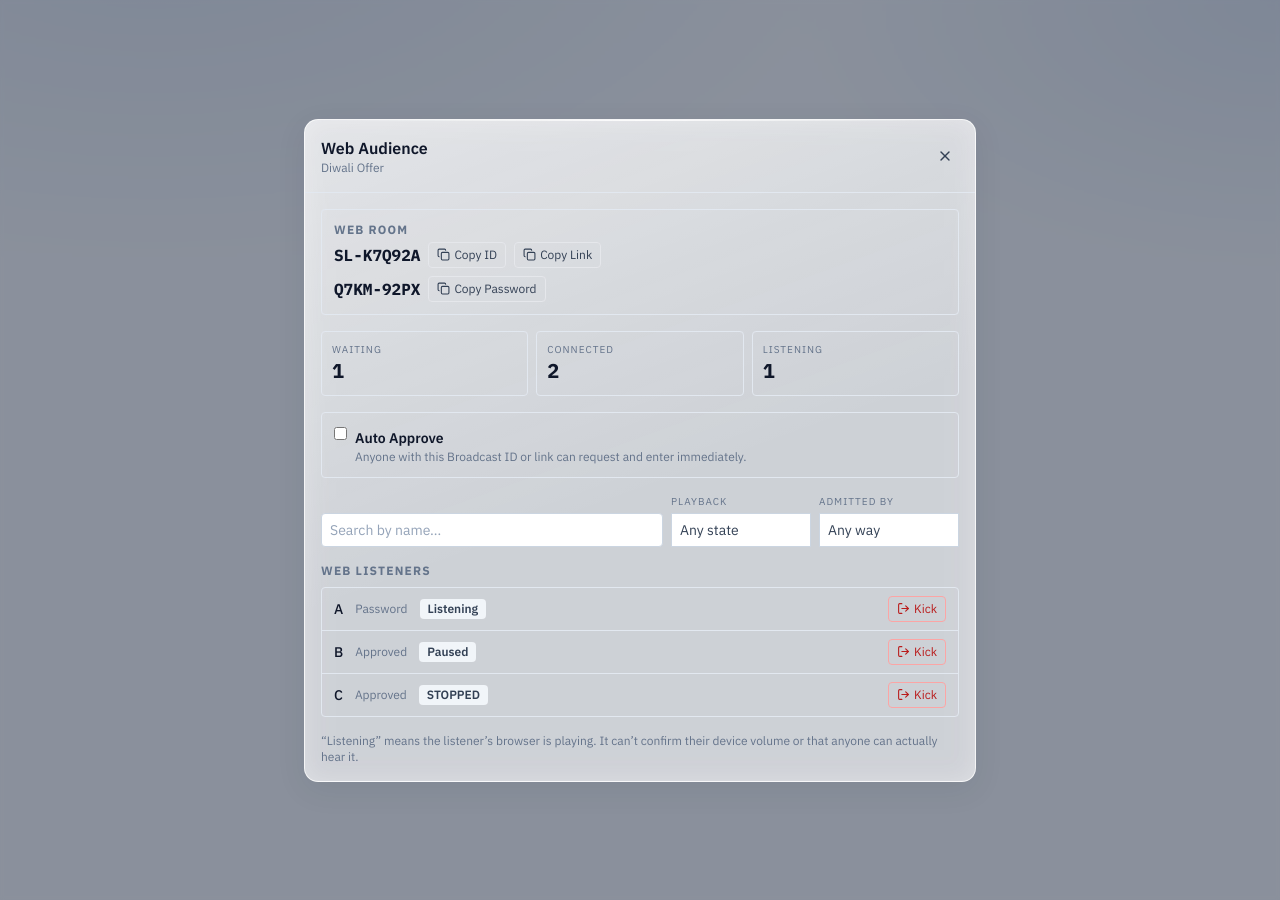
it: filters can name several values at once
Click the button with test id "supervised-audience-state" at (741, 530), box [671,512,811,546]
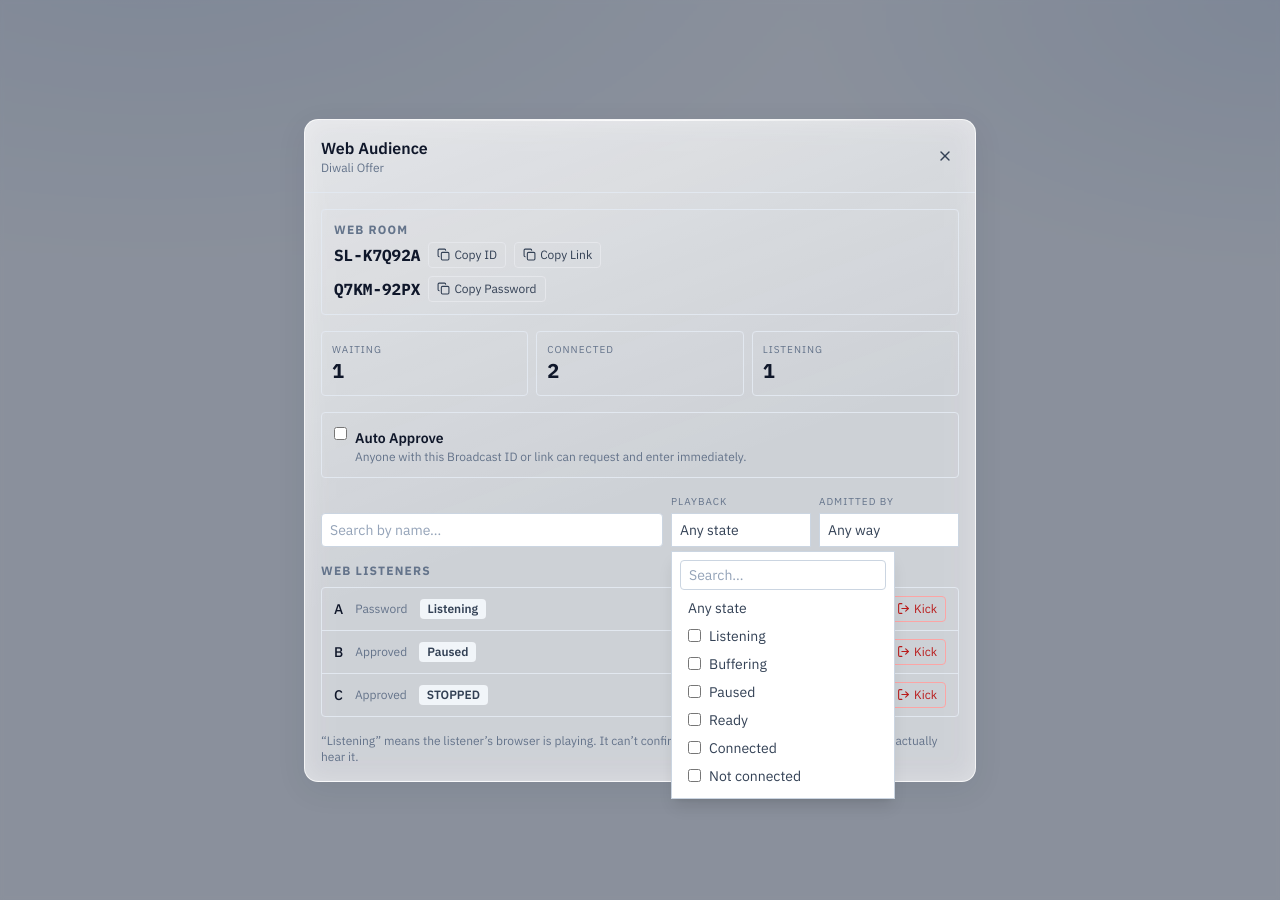
Click the checkbox with test id "supervised-audience-state-option-LISTENING" at (694, 636), box [688,629,701,642]
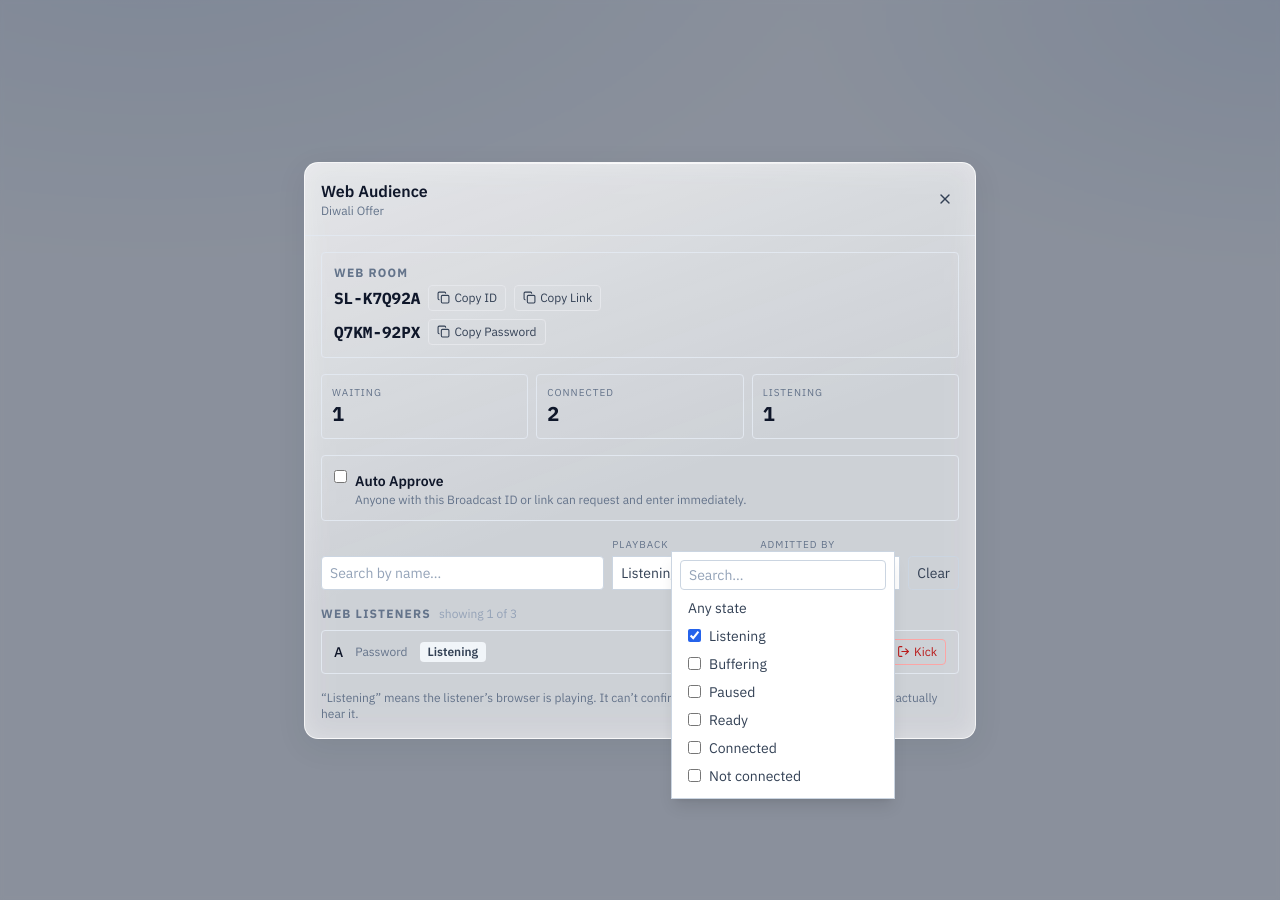
Click the checkbox with test id "supervised-audience-state-option-PAUSED" at (694, 692), box [688,685,701,698]
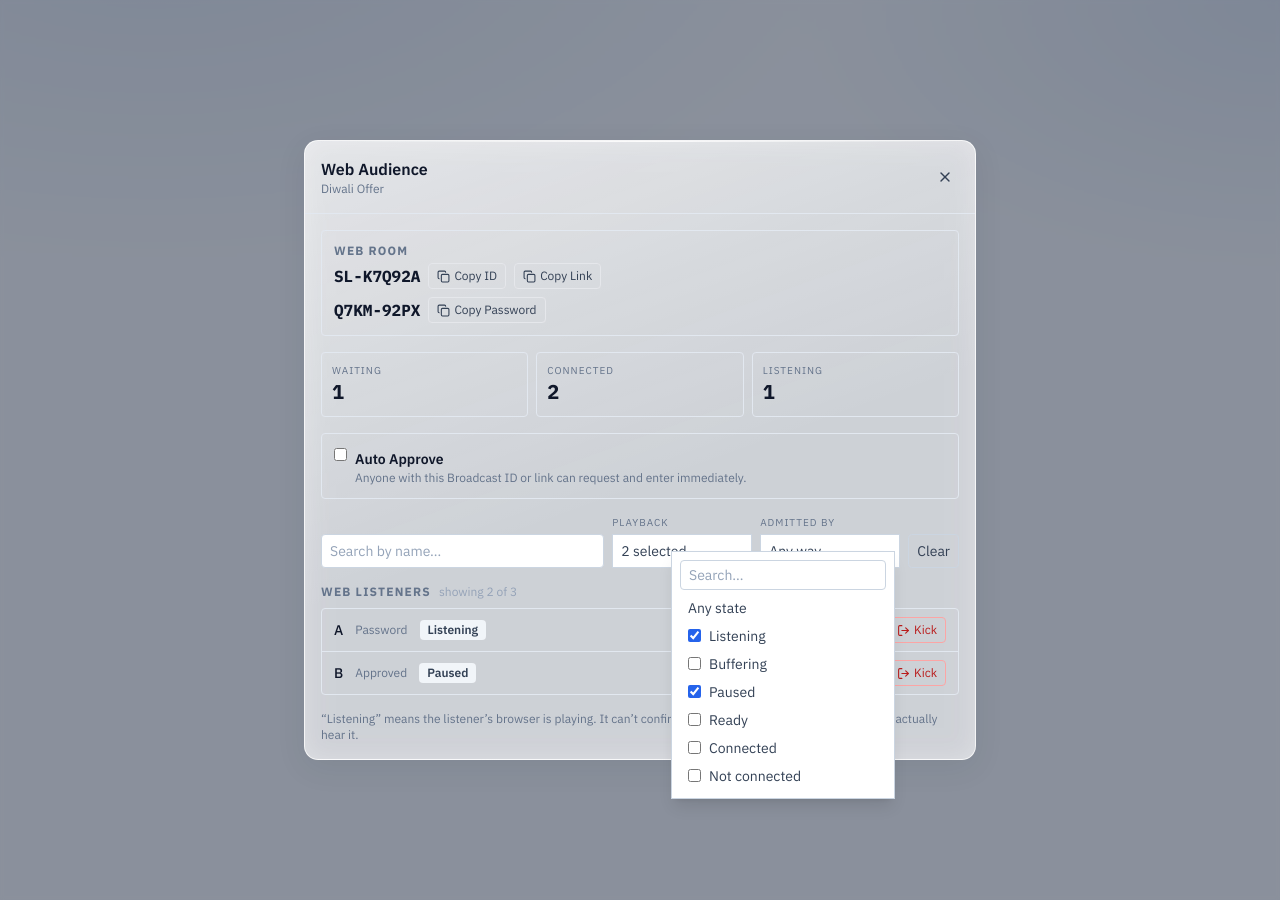
Expected: the list item with test id "supervised-listener-3" is shown, [322,609,958,651]
Result: the list item with test id "supervised-listener-4" is shown at [322,651,958,694]
